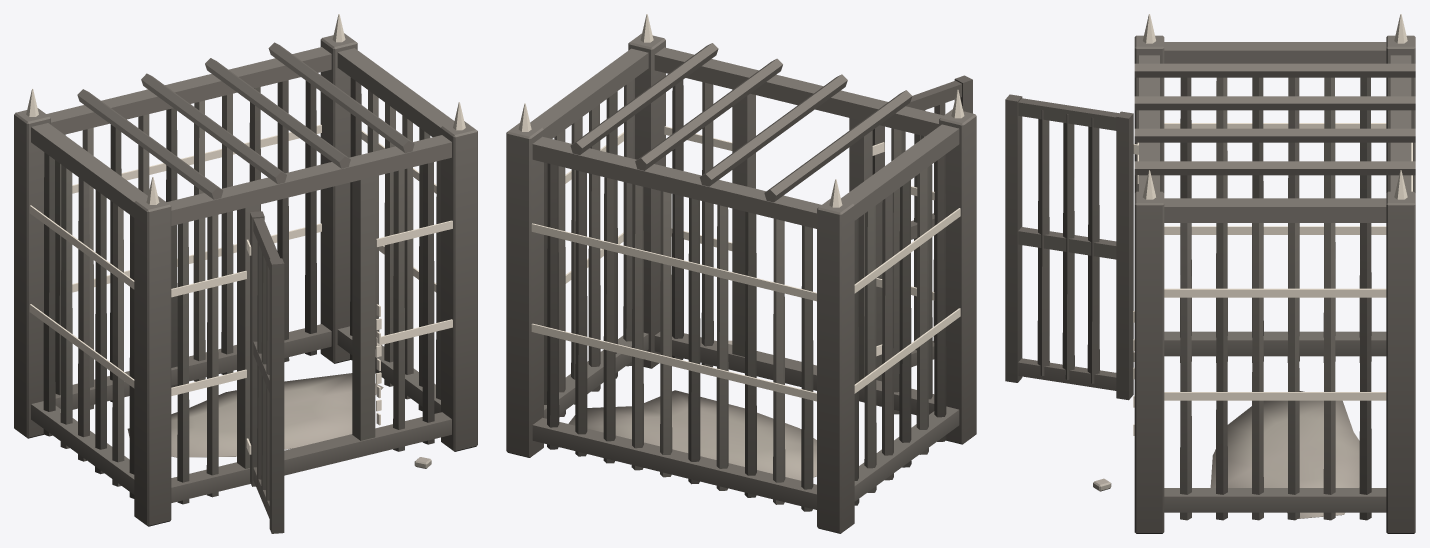
File: SM_VKI_Prop_Orc_Cage_Open.fbx
3 renders of one model, left to right at view 1: azimuth 30°, elevation 25°; view 2: azimuth 150°, elevation 25°; view 3: azimuth 270°, elevation 25°, orthographic. The views are drawn at different scales.
Parts seen in each view (by area): view 1: SM_VKI_Prop_Orc_Cage_Open.001; view 2: SM_VKI_Prop_Orc_Cage_Open.001; view 3: SM_VKI_Prop_Orc_Cage_Open.001.
Part boxes in pixels (<box>): SM_VKI_Prop_Orc_Cage_Open.001: <box>14,14,477,533</box>; SM_VKI_Prop_Orc_Cage_Open.001: <box>506,14,976,533</box>; SM_VKI_Prop_Orc_Cage_Open.001: <box>1005,14,1415,533</box>.
Size of the model in its own units: 2.7 by 2.67 by 2.78.
